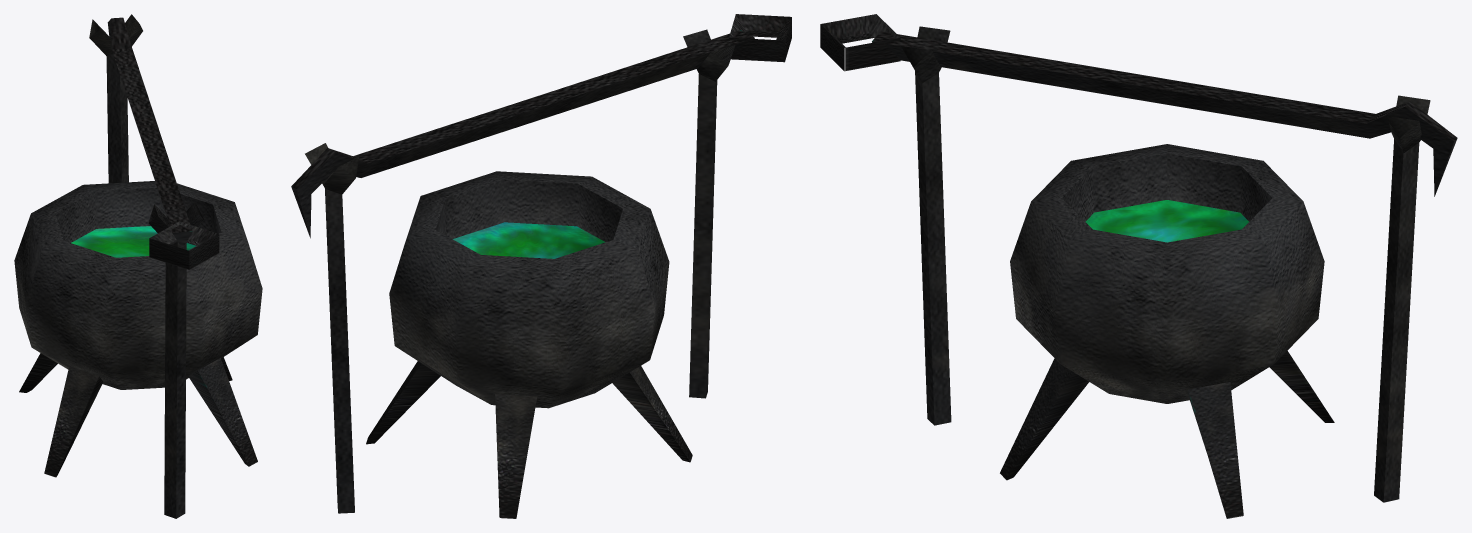
The model's file is cauldrin.obj.
The picture shows the model from 3 angles, left to right: view 1: azimuth 30°, elevation 25°; view 2: azimuth 150°, elevation 25°; view 3: azimuth 270°, elevation 25°; orthographic projection. The views are drawn at different scales.
Parts seen in each view (by area): view 1: cauldrin.obj; view 2: cauldrin.obj; view 3: cauldrin.obj.
Part boxes in pixels (left/top/right/bottom): cauldrin.obj: left=14, top=14, right=262, bottom=518; cauldrin.obj: left=291, top=14, right=791, bottom=518; cauldrin.obj: left=820, top=14, right=1457, bottom=518.
Bounding box in the file's own units: 0.9845 × 1.29 × 1.87.
